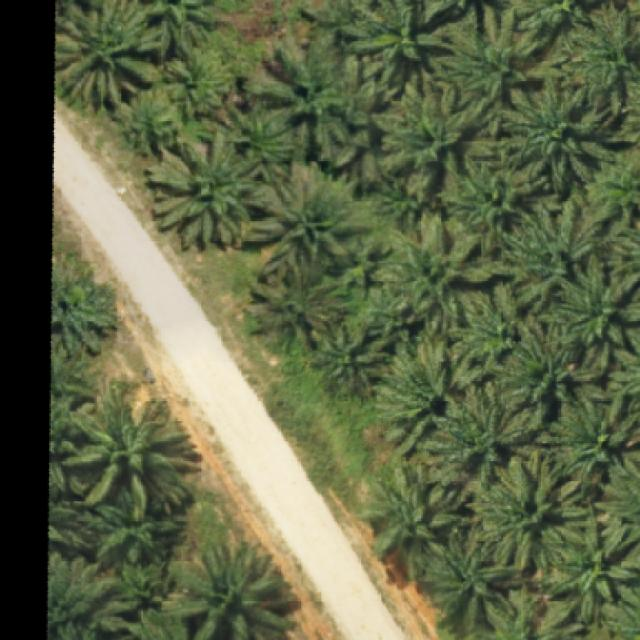Kelapa_Sawit: (61, 382, 201, 522), (438, 4, 570, 138), (371, 65, 498, 202), (244, 158, 371, 284), (241, 18, 350, 164), (497, 71, 618, 198), (355, 454, 476, 581), (462, 454, 590, 574), (380, 211, 503, 334), (485, 318, 612, 429), (486, 198, 606, 314), (371, 336, 484, 456), (144, 130, 256, 250), (436, 151, 562, 257), (51, 0, 166, 114), (419, 383, 538, 489), (538, 505, 640, 627), (535, 386, 640, 500), (324, 56, 407, 192), (419, 524, 524, 631), (198, 94, 297, 201), (444, 279, 533, 390), (245, 262, 346, 350), (94, 474, 184, 564), (307, 312, 395, 397), (158, 46, 236, 123), (325, 232, 403, 300), (112, 86, 183, 157), (100, 556, 178, 609)
